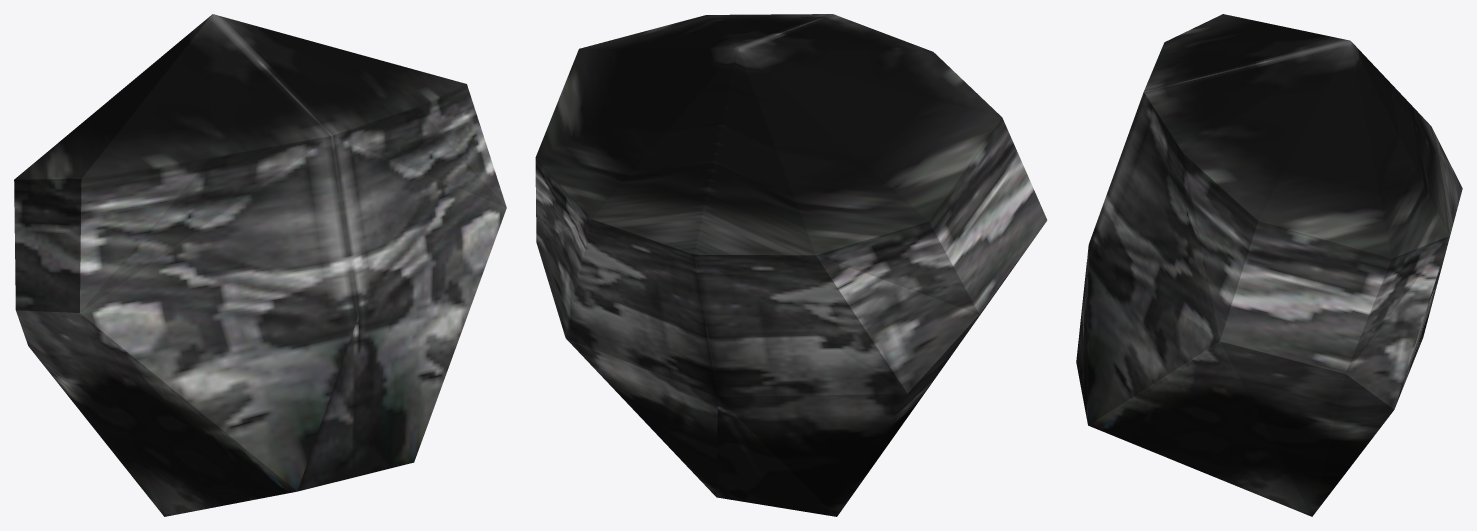
The model's file is Waist.obj.
3 renders of one model, left to right at view 1: azimuth 30°, elevation 25°; view 2: azimuth 150°, elevation 25°; view 3: azimuth 270°, elevation 25°, orthographic. The views are drawn at different scales.
Visible parts, largest first — view 1: Waist; view 2: Waist; view 3: Waist.
Part boxes in pixels (box(x1,y1,x2,y2)): Waist: box(14, 14, 506, 516); Waist: box(535, 14, 1047, 516); Waist: box(1076, 14, 1462, 516).
Size of the model in its own units: 0.9348 by 0.9423 by 0.7228.
